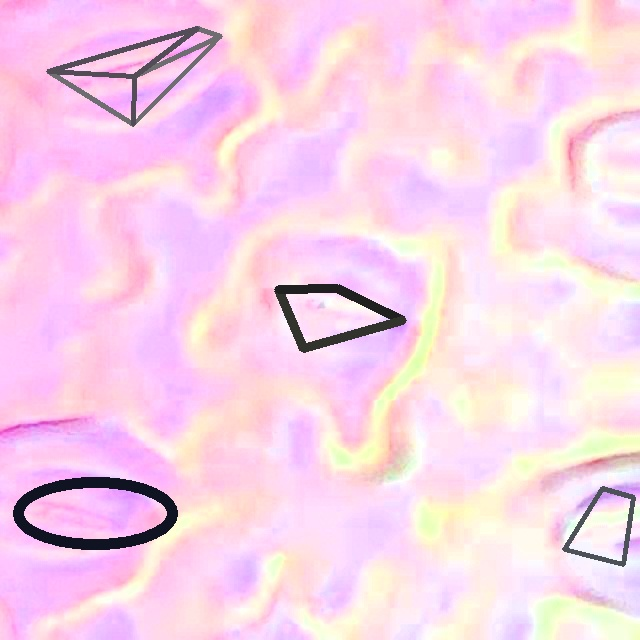close: (275, 285, 406, 352)
open: (46, 26, 222, 126), (12, 476, 178, 550), (562, 486, 635, 566)
